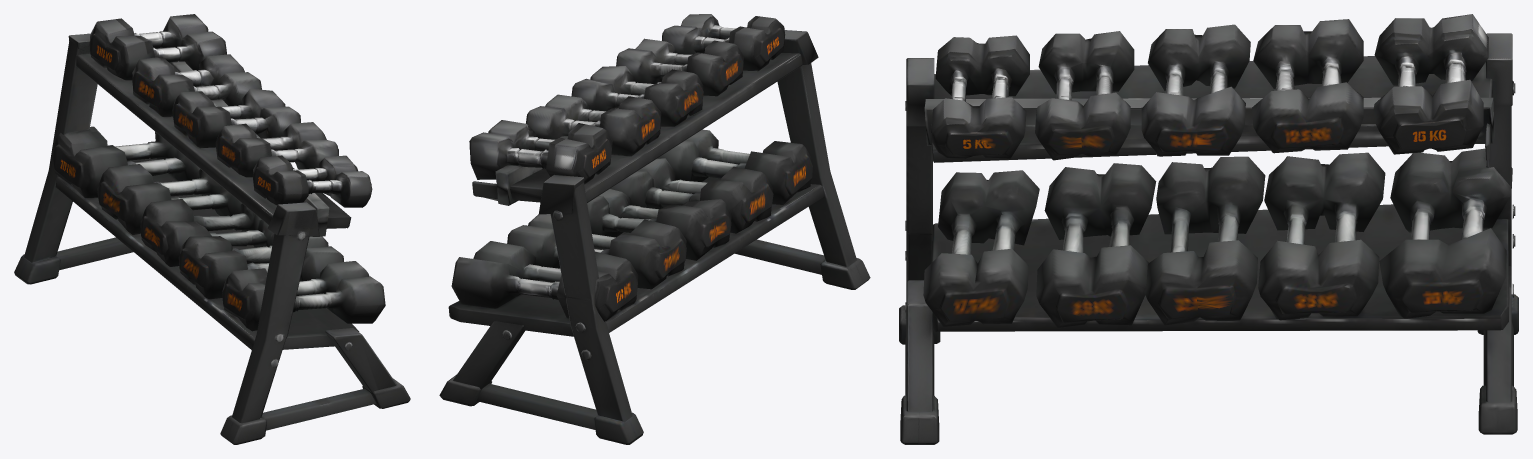
Rendered from dumbbells.glb.
The picture shows the model from 3 angles, left to right: view 1: azimuth 30°, elevation 25°; view 2: azimuth 150°, elevation 25°; view 3: azimuth 270°, elevation 25°; orthographic projection. The views are drawn at different scales.
Parts seen in each view (by area): view 1: tripo_node_c993014c-a062-49af-ba81-8c35c2bde83a; view 2: tripo_node_c993014c-a062-49af-ba81-8c35c2bde83a; view 3: tripo_node_c993014c-a062-49af-ba81-8c35c2bde83a.
Part boxes in pixels (x1,y1,x2,y2): tripo_node_c993014c-a062-49af-ba81-8c35c2bde83a: (14,14,410,444); tripo_node_c993014c-a062-49af-ba81-8c35c2bde83a: (439,14,870,444); tripo_node_c993014c-a062-49af-ba81-8c35c2bde83a: (899,14,1518,444).
Bounding box in the file's own units: 0.6324 × 0.86 × 1.35.
Materials: 1 (1 with a texture image).
